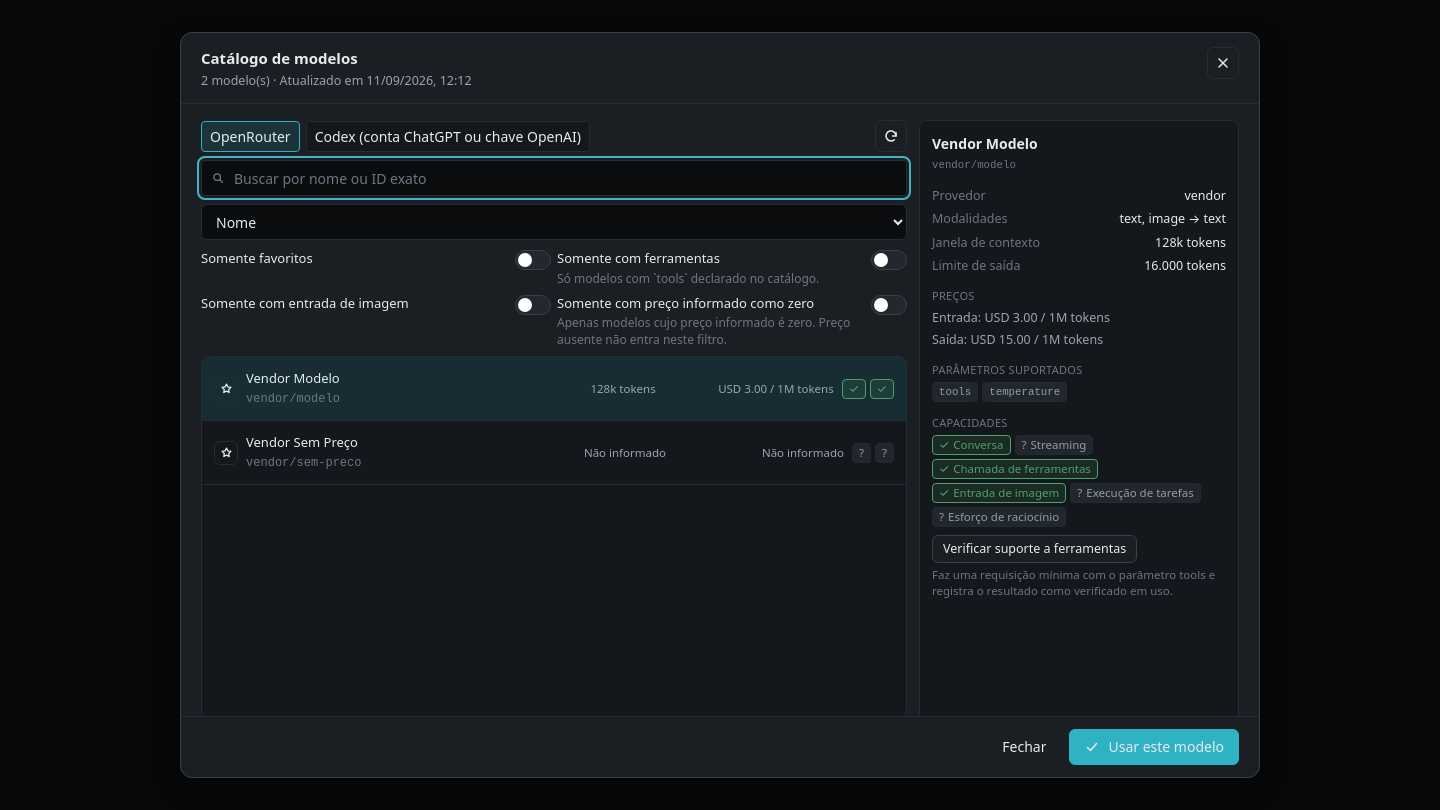
Test: CatalogDialog › mostra "Não informado" quando falta preço — nunca "grátis"
The width and height of the screenshot is (1440, 810).
Step 1. Click the text "Vendor Sem Preço" → (302, 442), box [246,432,358,452]
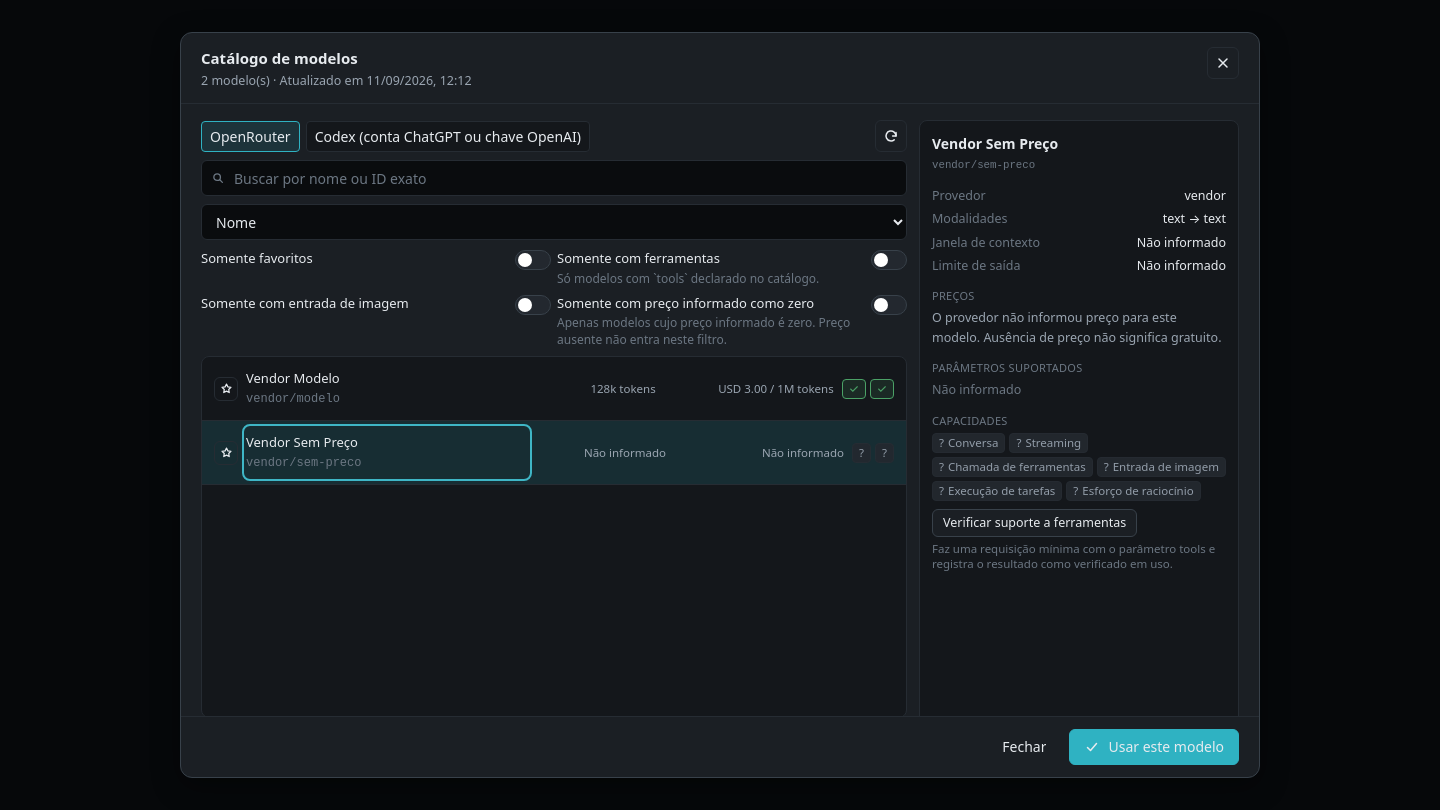
Expected: the list item "Ausência de preço não significa gratuito" is shown, [932,309,1222,346]
